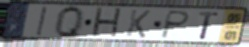H: (89, 6, 123, 40)
I: (35, 6, 49, 37)
K: (124, 8, 153, 39)
P: (159, 10, 192, 40)
Q: (54, 4, 84, 40)
T: (197, 11, 220, 41)
